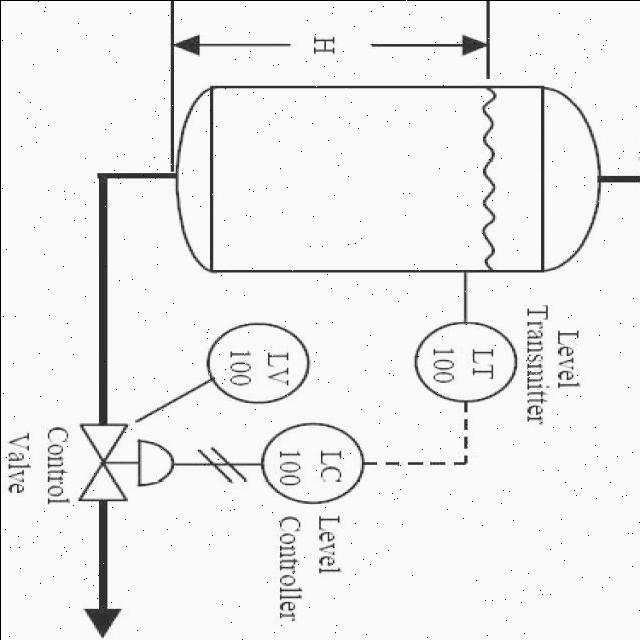Pneumatic-Diaphragm Gate Valve: (71, 422, 181, 512)
